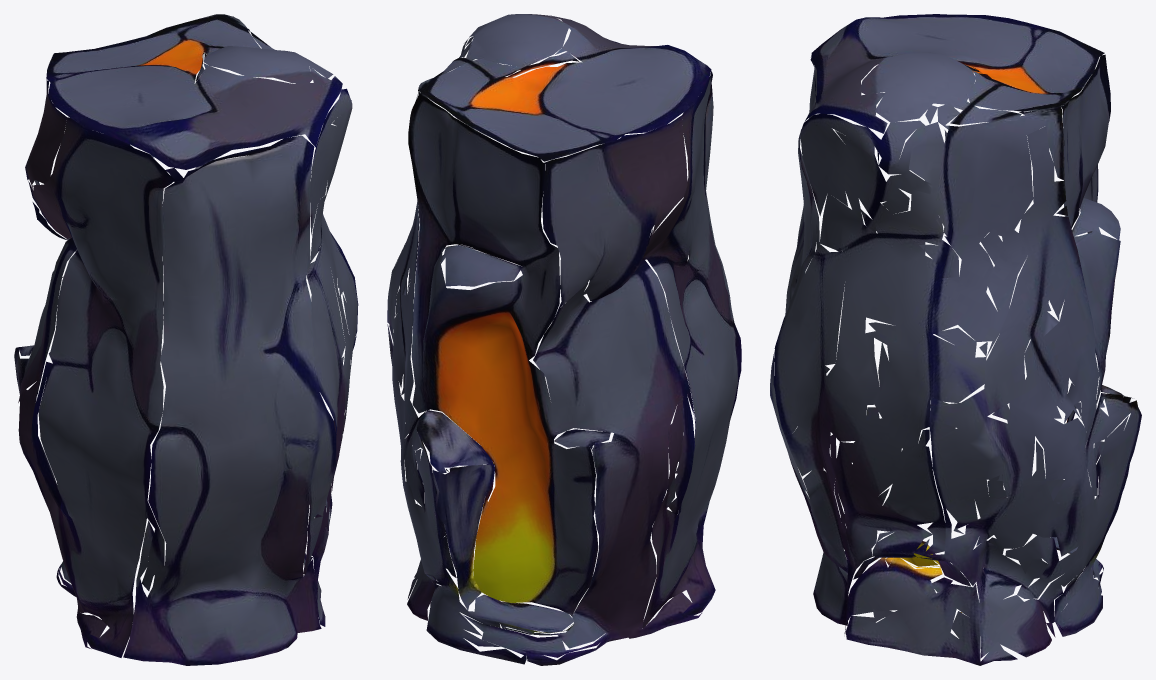
Rendered from volkan_sutun.glb.
3 renders of one model, left to right at view 1: azimuth 30°, elevation 25°; view 2: azimuth 150°, elevation 25°; view 3: azimuth 270°, elevation 25°, orthographic.
Visible parts, largest first — view 1: geometry_0; view 2: geometry_0; view 3: geometry_0.
Boxes of the visible parts, x1,y1,x2,y2 form: geometry_0: (14, 14, 358, 665); geometry_0: (387, 14, 741, 665); geometry_0: (770, 14, 1141, 665).
Size of the model in its own units: 0.5768 by 0.9996 by 0.6037.
Materials: 1 (1 with a texture image).
